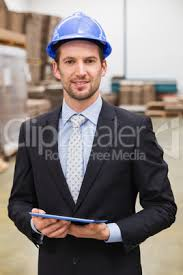Person_wearing_helmet: (44, 2, 113, 69)
